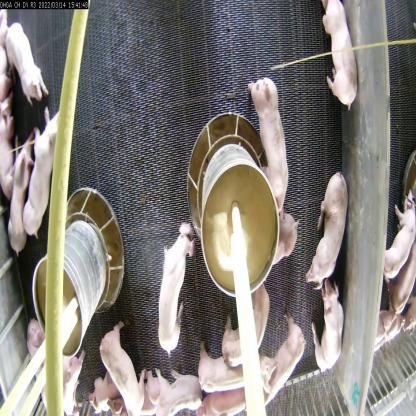Pig: (245, 69, 294, 212), (315, 0, 364, 109), (25, 112, 64, 247), (156, 226, 190, 357), (311, 169, 348, 288), (101, 320, 146, 415), (258, 324, 307, 409), (5, 21, 50, 113), (198, 340, 274, 392), (223, 292, 276, 364), (5, 137, 36, 254), (307, 284, 344, 381), (146, 360, 210, 415), (20, 310, 54, 403), (53, 347, 83, 415), (194, 386, 252, 415)
